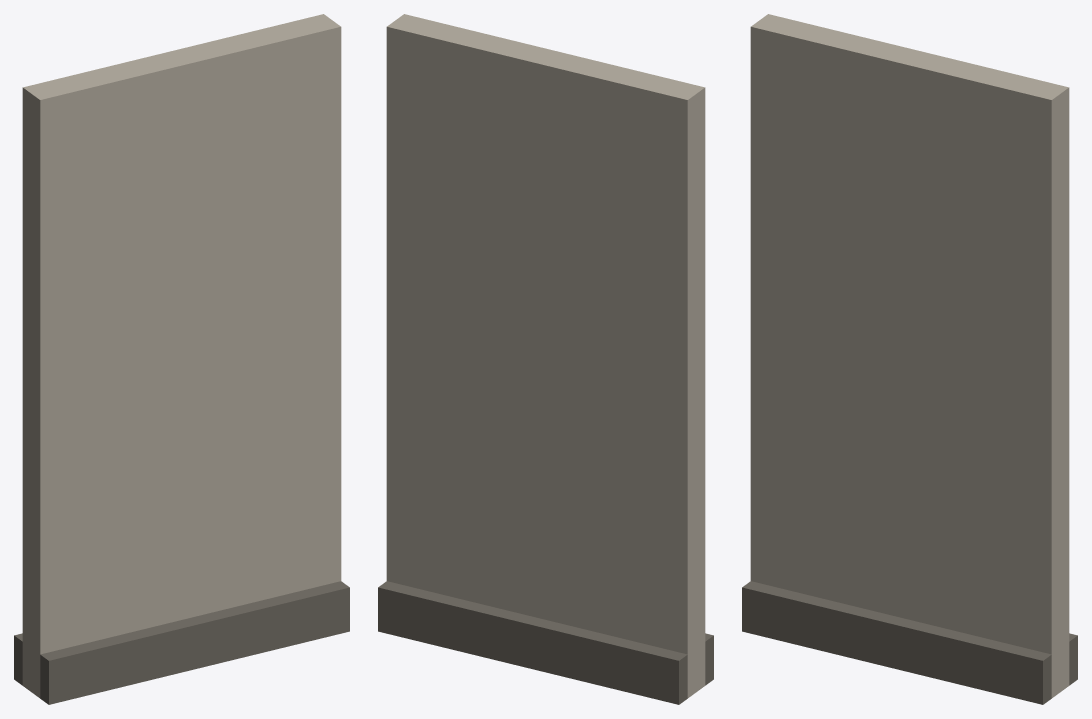
Rendered from raum_innenwand.glb.
3 views of the same model, side by side, from view 1: azimuth 30°, elevation 25°; view 2: azimuth 150°, elevation 25°; view 3: azimuth 330°, elevation 25° (orthographic).
Visible parts, largest first — view 1: innenwand, innensockel_a; view 2: innenwand, innensockel_b; view 3: innenwand, innensockel_a.
Boxes of the visible parts, bbox=[...] form: innenwand: bbox=[22, 14, 341, 698]; innensockel_a: bbox=[40, 581, 349, 704]; innenwand: bbox=[386, 14, 705, 698]; innensockel_b: bbox=[378, 581, 687, 704]; innenwand: bbox=[750, 14, 1069, 698]; innensockel_a: bbox=[742, 581, 1051, 704].
Size of the model in its own units: 1 by 1.9 by 0.2.
